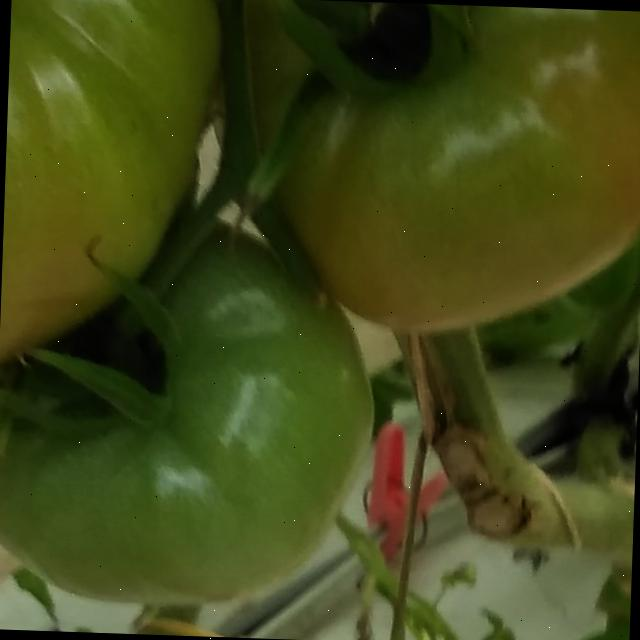tomato: (0, 0, 640, 551)
